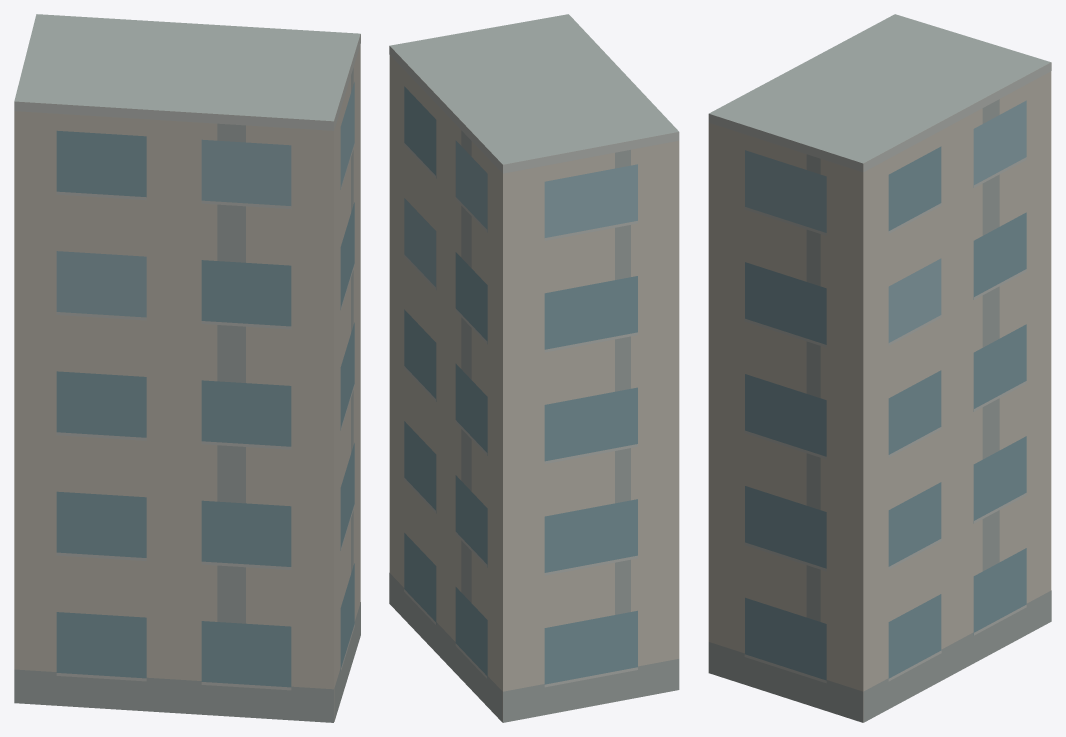
File: survey-upis-32834413.glb
The picture shows the model from 3 angles, left to right: view 1: azimuth 30°, elevation 25°; view 2: azimuth 150°, elevation 25°; view 3: azimuth 270°, elevation 25°; orthographic projection. The views are drawn at different scales.
Parts seen in each view (by area): view 1: survey-upis-32834413.tmp; view 2: survey-upis-32834413.tmp; view 3: survey-upis-32834413.tmp.
Boxes of the visible parts, bbox=[...] form: survey-upis-32834413.tmp: bbox=[14, 14, 360, 722]; survey-upis-32834413.tmp: bbox=[389, 14, 679, 722]; survey-upis-32834413.tmp: bbox=[708, 14, 1051, 722].
Bounding box in the file's own units: 8.75 × 15.25 × 8.48.
